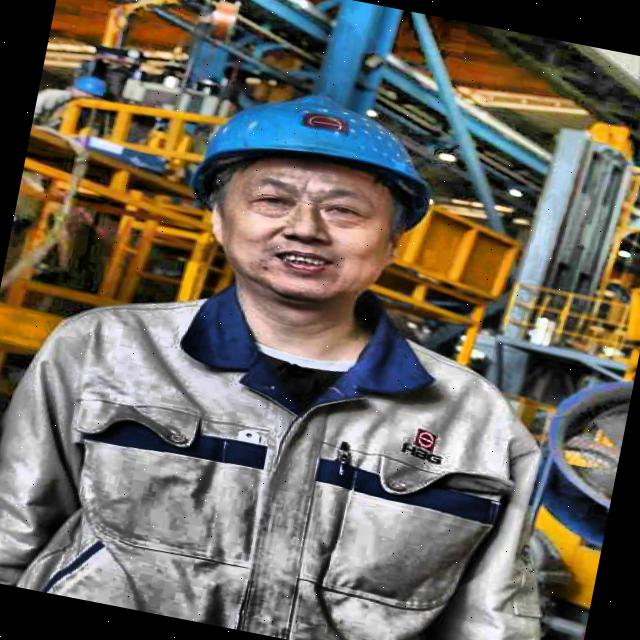helmet: (145, 58, 466, 342)
